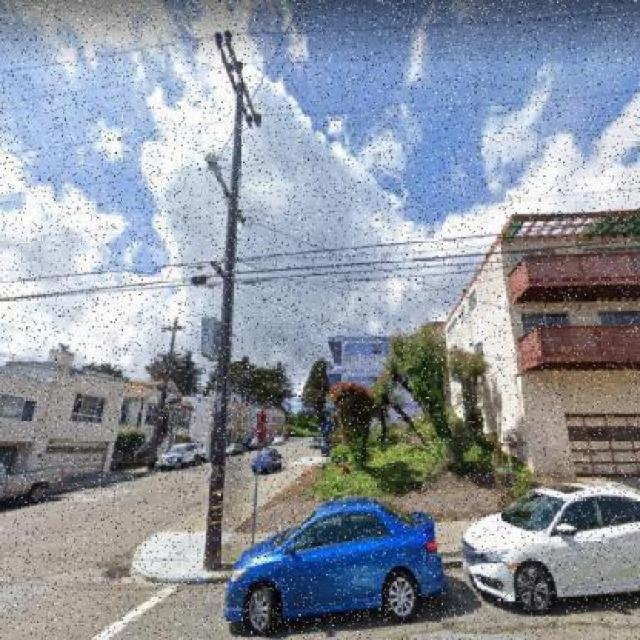pole: (184, 12, 264, 576)
